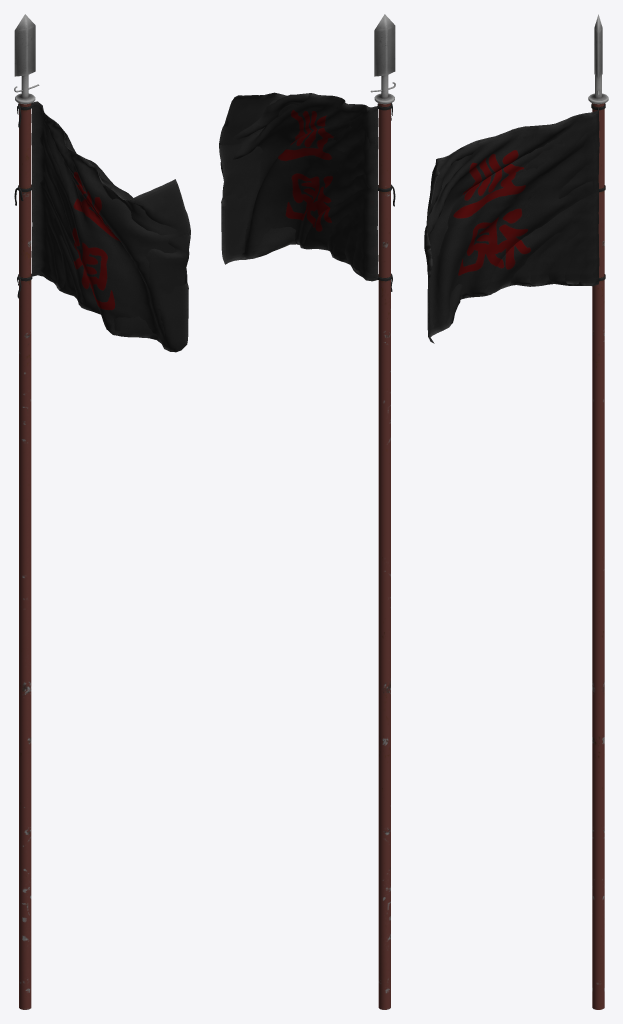
The model's file is SM_Flag_Wind_2.fbx.
3 views of the same model, side by side, from view 1: azimuth 30°, elevation 25°; view 2: azimuth 210°, elevation 25°; view 3: azimuth 270°, elevation 25° (orthographic).
Visible parts, largest first — view 1: SM_Flag_Wind_2; view 2: SM_Flag_Wind_2; view 3: SM_Flag_Wind_2.
Boxes of the visible parts, box(x1,y1,x2,y2) form: SM_Flag_Wind_2: box(14, 14, 190, 1009); SM_Flag_Wind_2: box(219, 14, 395, 1009); SM_Flag_Wind_2: box(424, 14, 608, 1009).
Size of the model in its own units: 45.79 by 80.32 by 477.
Materials: 1 (1 with a texture image).
